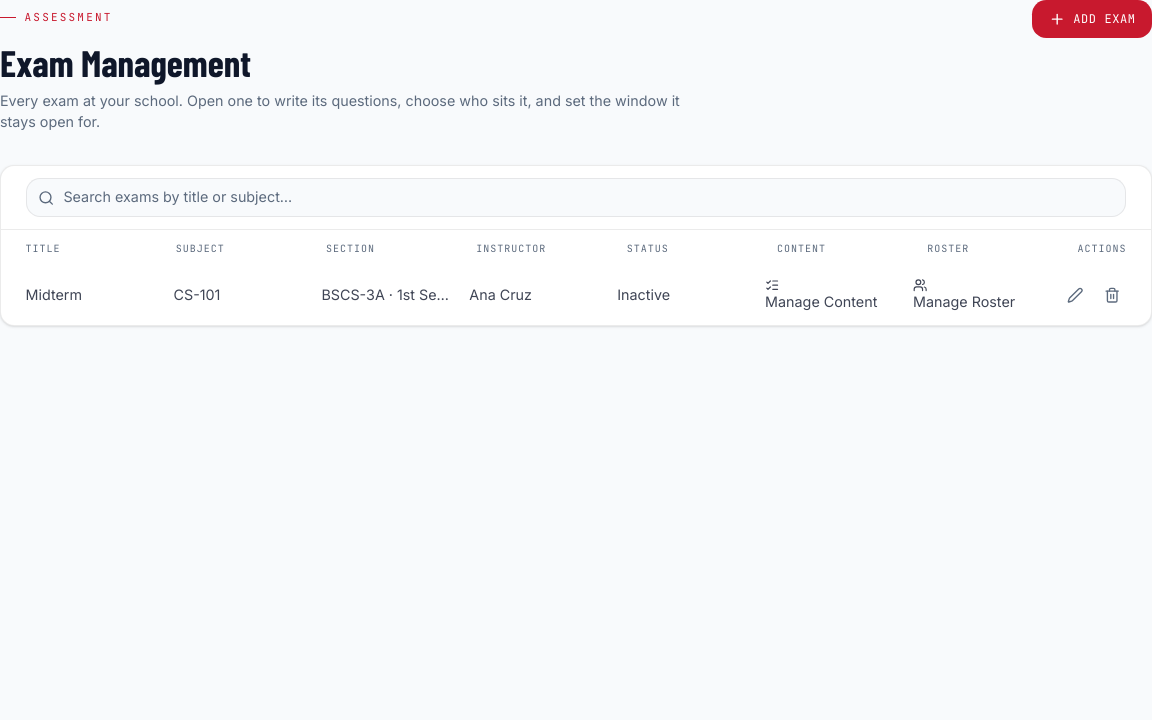
Test: Exams — a row answers what it is › says when retake flagging is off rather than showing a blank
The width and height of the screenshot is (1152, 720).
Click the text "Midterm" at (54, 295), box 26,286 -> 82,303
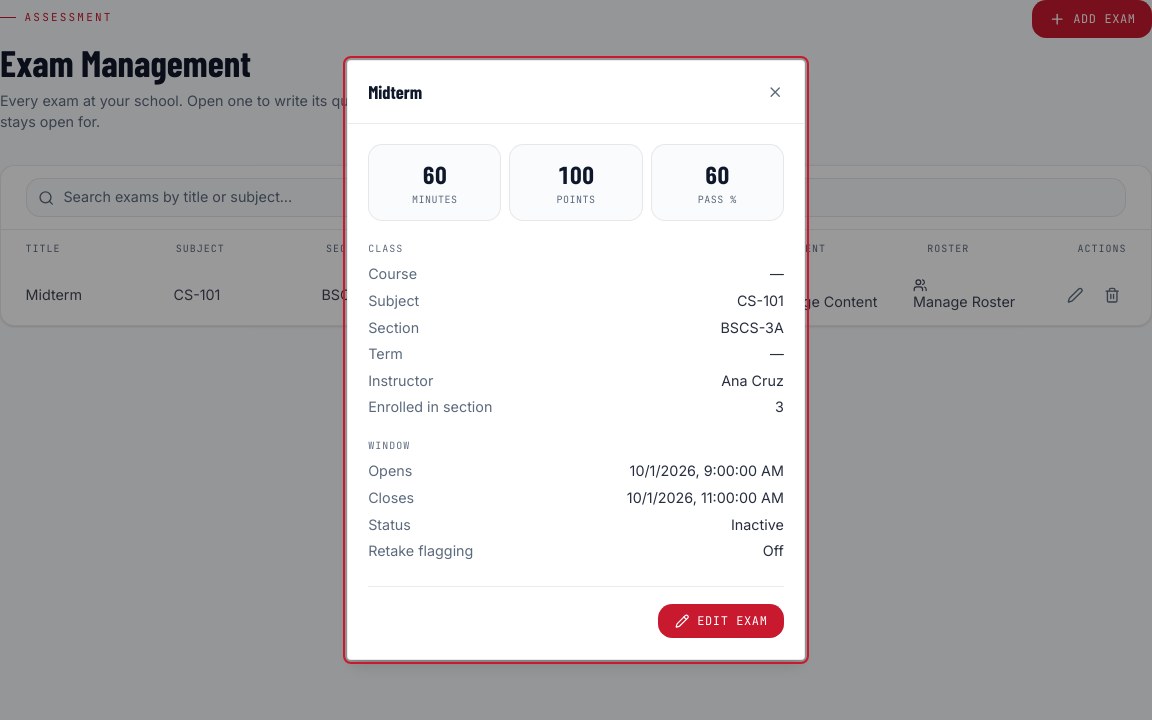
Check: the text "Off" is shown, box 763,541 -> 784,562
